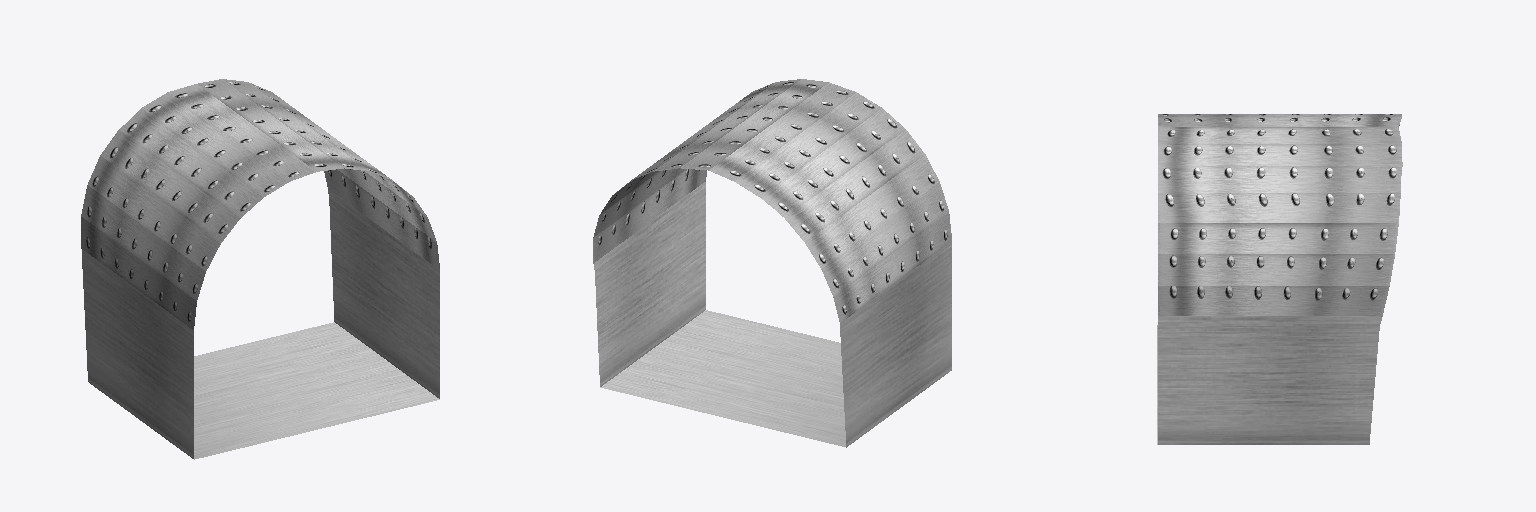
3 renders of one model, left to right at view 1: azimuth 30°, elevation 25°; view 2: azimuth 150°, elevation 25°; view 3: azimuth 270°, elevation 25°, orthographic.
Parts seen in each view (by area): view 1: polySurface6 Entrada1:polySurface3; view 2: polySurface6 Entrada1:polySurface3; view 3: polySurface6 Entrada1:polySurface3.
Part boxes in pixels (x1,y1,x2,y2): polySurface6 Entrada1:polySurface3: (81,79,439,459); polySurface6 Entrada1:polySurface3: (593,79,951,447); polySurface6 Entrada1:polySurface3: (1157,114,1402,444).
Bounding box in the file's own units: 1.11 × 1.11 × 0.9536.
Materials: 2 (1 with a texture image).